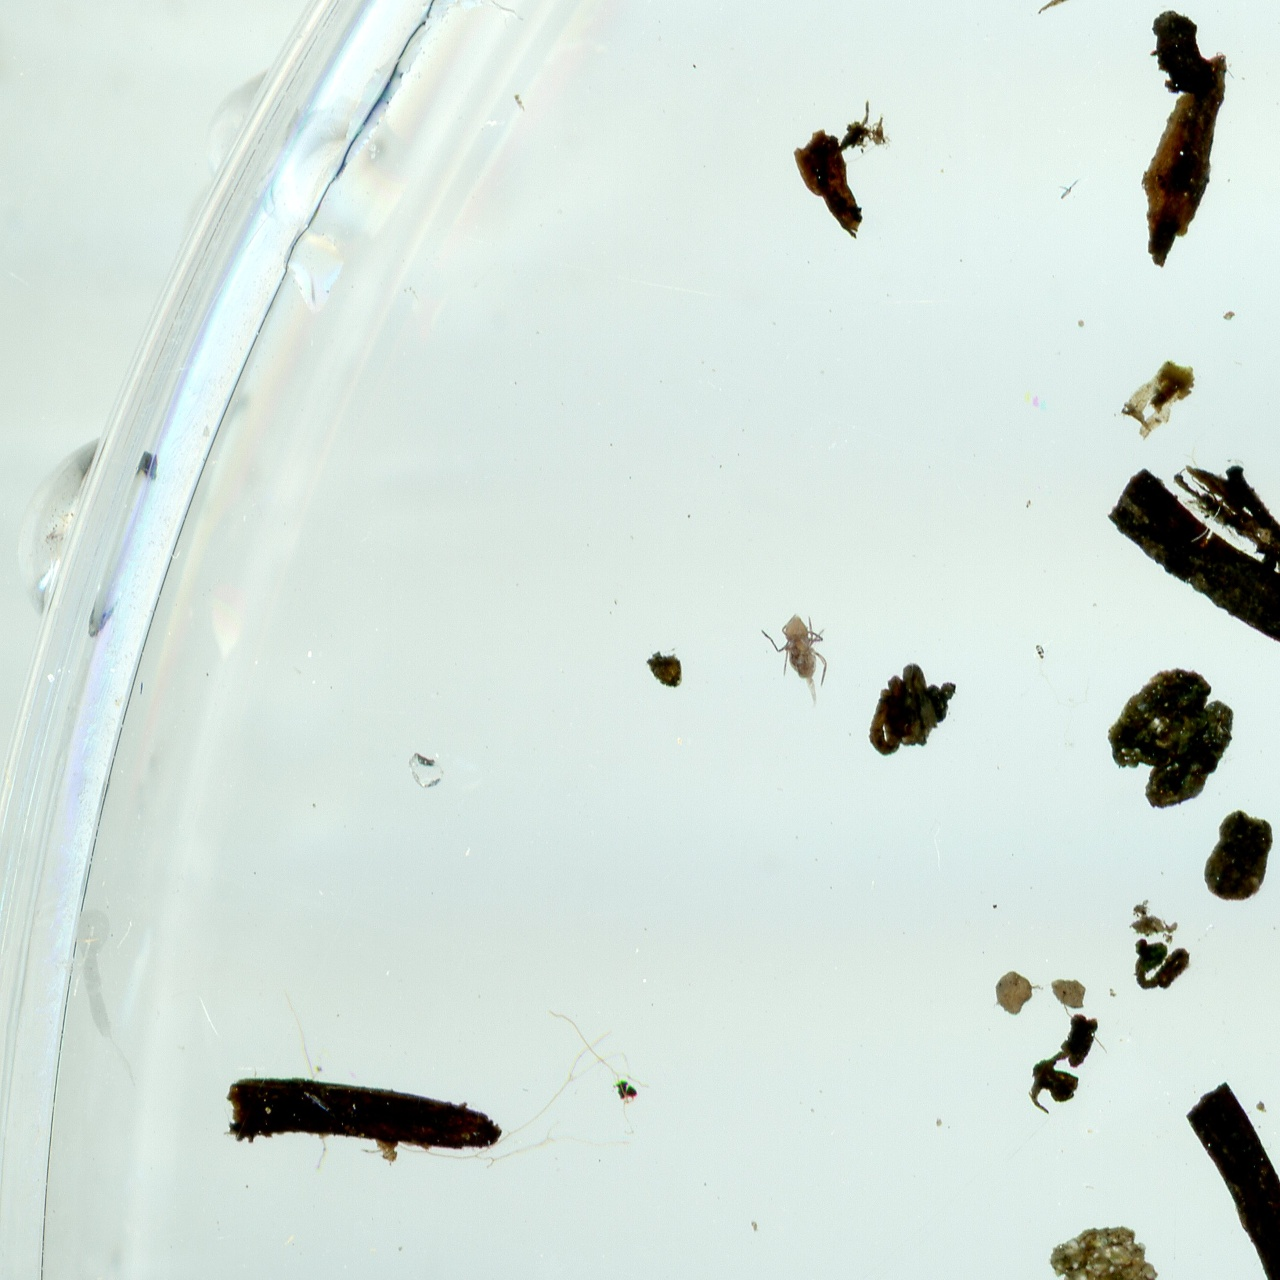arthropod: (756, 612, 833, 710)
